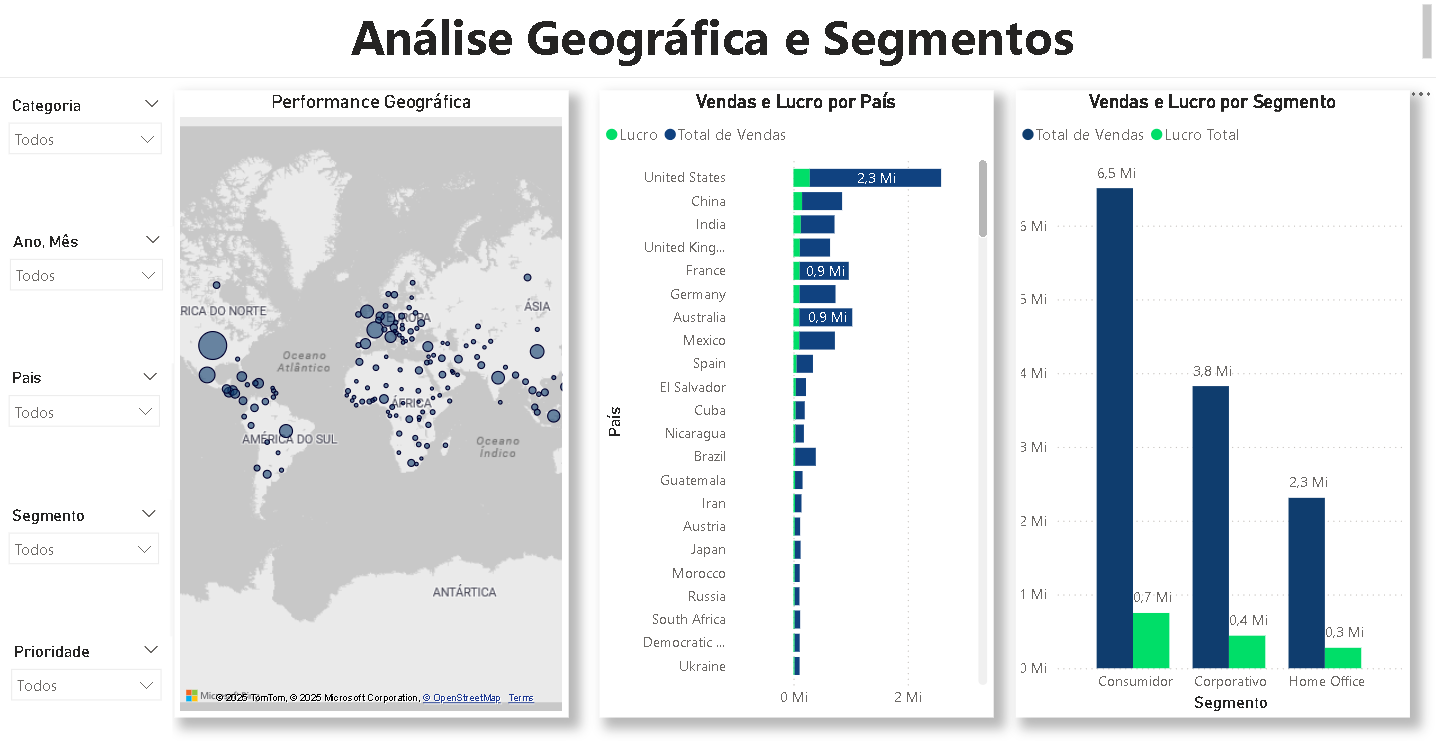

Layout of this report page (visuals, bound fields, positions):
{"tool":"powerbi","page":{"name":"Análise Geográfica e Segmentos","canvas":[1280,720],"ordinal":1},"visuals":[{"type":"textbox","box":[0,0,1280,70],"z":0},{"type":"map","title":"Performance Geográfica","fields":{"Category":["dataset (2).Pais"],"Size":["Sum(dataset (2).Quantidade)"]},"box":[157.5,81.2,350,557.5],"z":1000},{"type":"barChart","title":"Vendas e Lucro por País","fields":{"Category":["dataset (2).Pais"],"Y":["Sum(dataset (2).Lucro)","Sum(dataset (2).Total_Vendas)"]},"box":[535,81.2,350,557.5],"z":2000},{"type":"clusteredColumnChart","title":"Vendas e Lucro por Segmento","fields":{"Category":["dataset (2).Segmento"],"Y":["Sum(dataset (2).Total_Vendas)","Sum(dataset (2).Lucro)"]},"box":[905,81.2,350,557.5],"z":3000},{"type":"slicer","fields":{"Values":["dataset (2).Categoria"]},"box":[0,81.2,156.2,121],"z":4000},{"type":"slicer","fields":{"Values":["dataset (2).Data_Pedido.Variation.Hierarquia de datas.Ano","dataset (2).Data_Pedido.Variation.Hierarquia de datas.Mês"]},"box":[1.2,202.5,156.2,121.2],"z":5000},{"type":"slicer","fields":{"Values":["dataset (2).Pais"]},"box":[0,323.8,155,121.2],"z":6000},{"type":"slicer","fields":{"Values":["dataset (2).Segmento"]},"box":[0,445,153.8,121.2],"z":7000},{"type":"slicer","fields":{"Values":["dataset (2).Prioridade"]},"box":[2.5,566.2,153.8,121.2],"z":8000}]}

Visuals, with their boxes on the page's 1280x720 design canvas (x1, y1, x2, y2). These are canvas units, not pixel positions in the 1436x741 screenshot, which may show the page scaled, cropped or inside an application window:
textbox: (x1=0, y1=0, x2=1280, y2=70)
"Performance Geográfica" map: (x1=158, y1=81, x2=508, y2=639)
"Vendas e Lucro por País" barChart: (x1=535, y1=81, x2=885, y2=639)
"Vendas e Lucro por Segmento" clusteredColumnChart: (x1=905, y1=81, x2=1255, y2=639)
slicer - dataset (2).Categoria: (x1=0, y1=81, x2=156, y2=202)
slicer - dataset (2).Data_Pedido.Variation.Hierarquia de datas.Ano x dataset (2).Data_Pedido.Variation.Hierarquia de datas.Mês: (x1=1, y1=202, x2=157, y2=324)
slicer - dataset (2).Pais: (x1=0, y1=324, x2=155, y2=445)
slicer - dataset (2).Segmento: (x1=0, y1=445, x2=154, y2=566)
slicer - dataset (2).Prioridade: (x1=2, y1=566, x2=156, y2=687)
